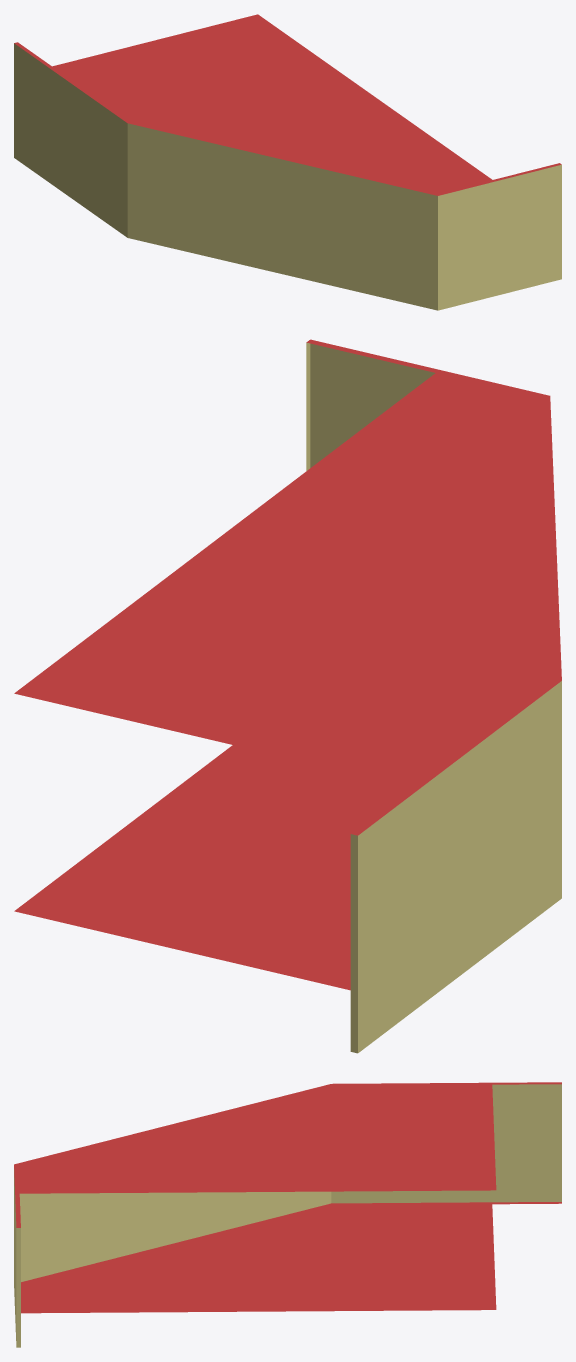
The picture shows the model from 3 angles, top to bottom: view 1: azimuth 30°, elevation 25°; view 2: azimuth 150°, elevation 25°; view 3: azimuth 270°, elevation 25°; orthographic projection. The views are drawn at different scales.
Bounding box in the file's own units: 18.78 × 29.82 × 7.18.
